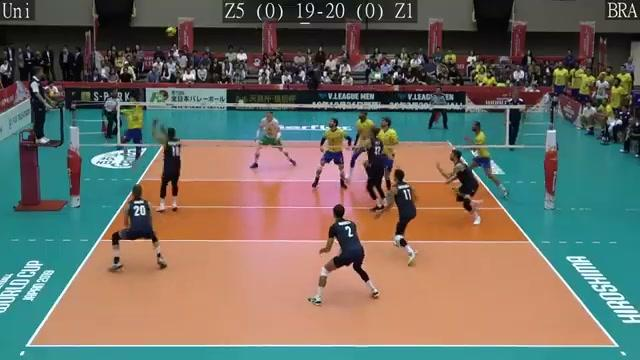ball: (163, 22, 179, 37)
